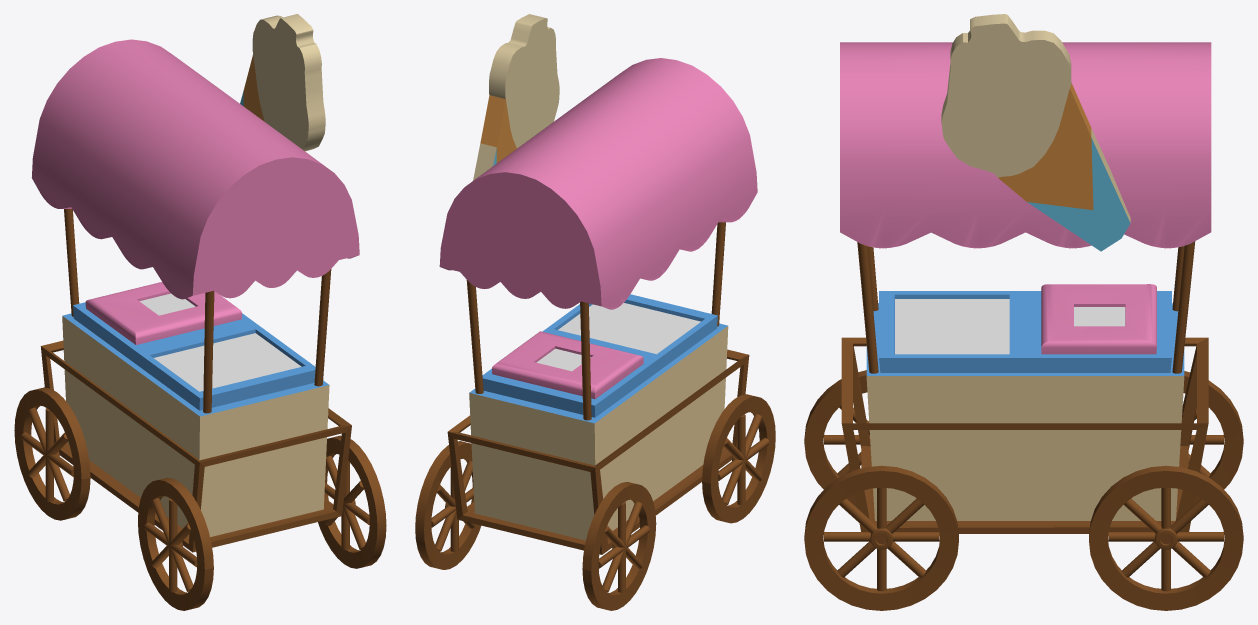
Rendered from dondurmaarabas.fbx.
3 renders of one model, left to right at view 1: azimuth 30°, elevation 25°; view 2: azimuth 150°, elevation 25°; view 3: azimuth 270°, elevation 25°, orthographic. The views are drawn at different scales.
Visible parts, largest first — view 1: Cylinder, Cube, Plane.001, Cube.001, Cylinder.007, Cylinder.008, Circle.001, Cylinder.003; view 2: Cylinder, Cube, Plane.001, Cube.001, Cylinder.008, Cylinder.007, Circle, Cylinder.003; view 3: Cube, Cylinder, Plane.001, Circle, Circle.001, Cube.001, Cylinder.003, Cylinder.008, Cylinder.007.
Part boxes in pixels (x1,y1,x2,y2): Cylinder: (31,39,359,299); Cube: (62,282,329,536); Plane.001: (240,14,325,151); Cube.001: (40,340,351,552); Cylinder.007: (14,387,90,520); Cylinder.008: (138,477,213,610); Circle.001: (318,435,386,568); Cylinder.003: (64,209,331,413); Cylinder: (439,58,757,309); Cube: (469,294,728,540); Plane.001: (473,14,559,180); Cube.001: (447,349,749,554); Cylinder.008: (702,394,775,523); Cylinder.007: (582,482,656,610); Circle: (415,441,480,569); Cylinder.003: (466,222,725,420); Cube: (866,284,1184,520); Cylinder: (840,42,1211,248); Plane.001: (941,14,1130,251); Circle: (1089,465,1243,610); Circle.001: (804,465,958,610); Cube.001: (841,337,1208,533); Cylinder.003: (857,241,1195,373); Cylinder.008: (804,370,870,506); Cylinder.007: (1183,371,1243,504).
Bounding box in the file's own units: 223 × 590 × 400.
